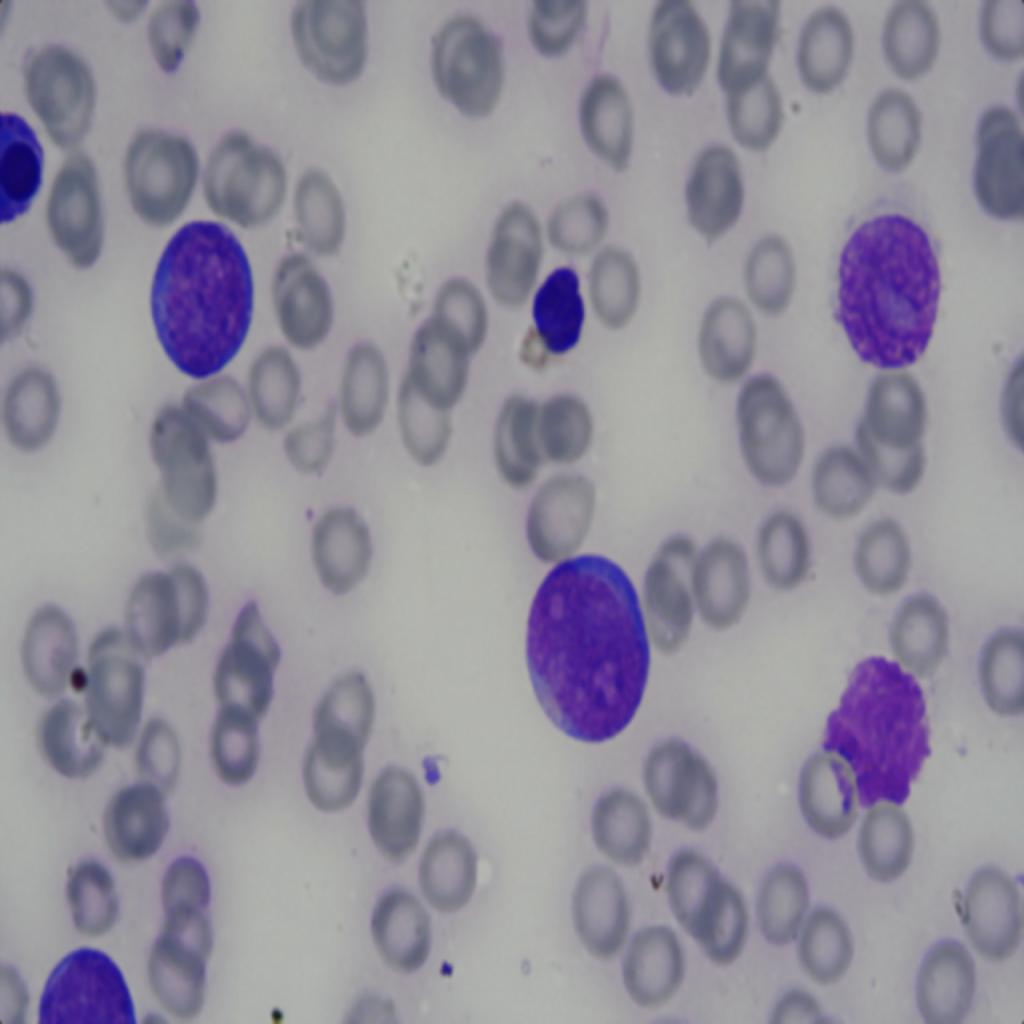Myeoblast: (514, 551, 656, 766), (811, 628, 938, 824), (140, 214, 269, 385), (829, 203, 950, 372), (519, 248, 603, 370)
Platelet: (293, 486, 325, 533), (416, 740, 447, 788), (430, 951, 458, 980)
